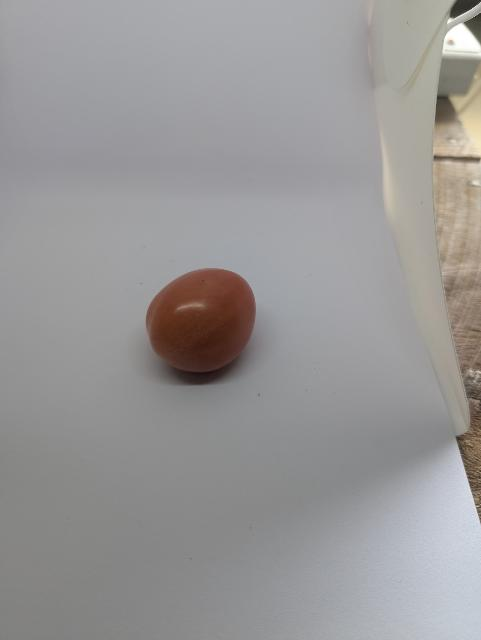red: (126, 261, 264, 388)
